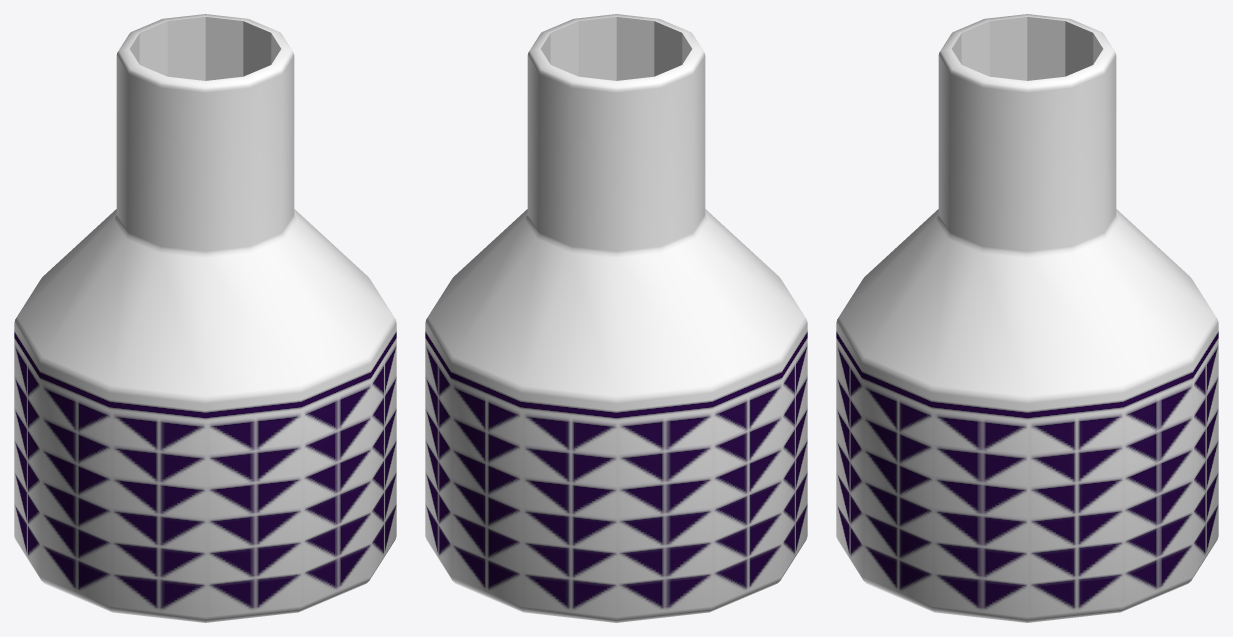
The model's file is vase5.FBX.
The picture shows the model from 3 angles, left to right: view 1: azimuth 30°, elevation 25°; view 2: azimuth 150°, elevation 25°; view 3: azimuth 270°, elevation 25°; orthographic projection.
Parts seen in each view (by area): view 1: vase5; view 2: vase5; view 3: vase5.
Part boxes in pixels (left/top/right/bottom): vase5: left=14, top=14, right=396, bottom=622; vase5: left=425, top=14, right=807, bottom=622; vase5: left=836, top=14, right=1218, bottom=622.
Bounding box in the file's own units: 6.27 × 6.27 × 9.05.
1 material, 1 textured.
